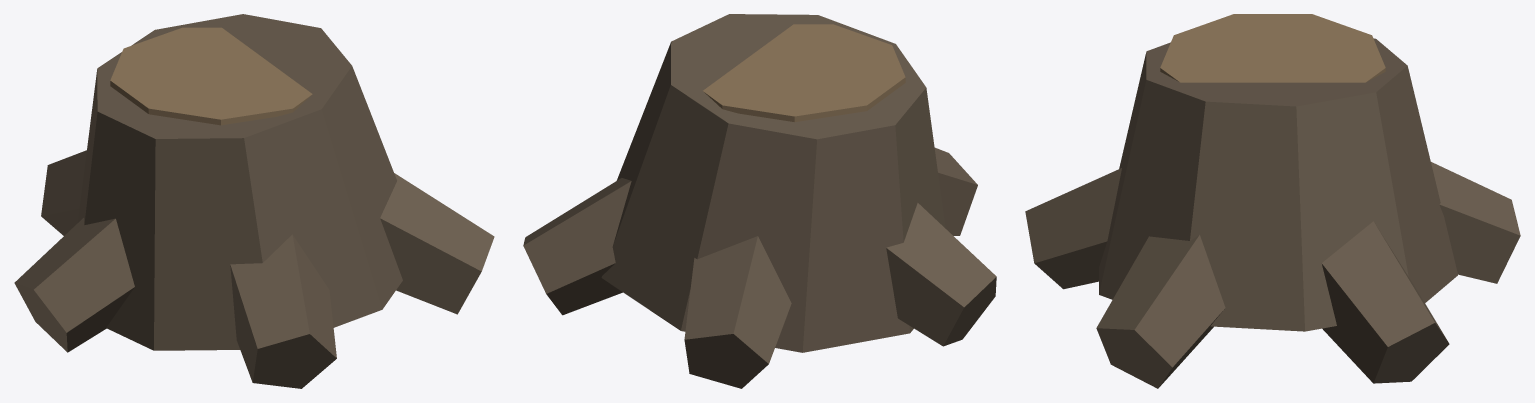
The model's file is Decor_Stump.fbx.
3 views of the same model, side by side, from view 1: azimuth 30°, elevation 25°; view 2: azimuth 150°, elevation 25°; view 3: azimuth 270°, elevation 25° (orthographic).
Parts seen in each view (by area): view 1: Decor_Stump; view 2: Decor_Stump; view 3: Decor_Stump.
Part boxes in pixels (<box>): Decor_Stump: <box>14,14,494,388</box>; Decor_Stump: <box>523,14,996,388</box>; Decor_Stump: <box>1025,14,1520,388</box>.
Bounding box in the file's own units: 1.42 × 0.8172 × 1.47.
